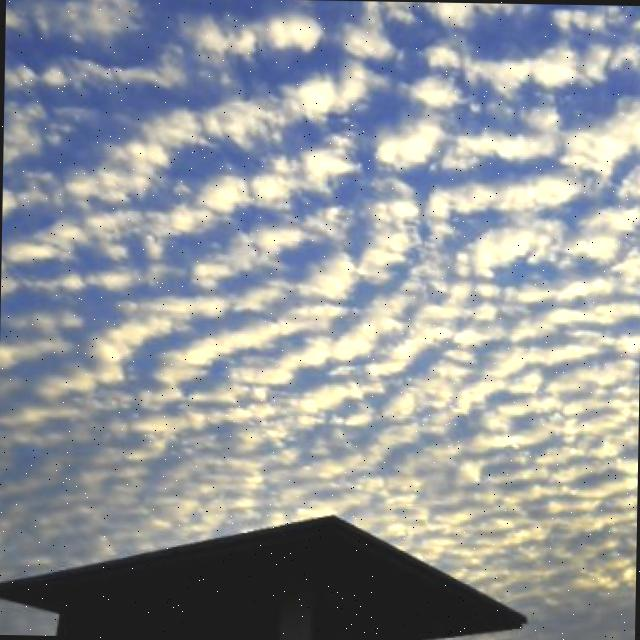Ac: (1, 37, 640, 473)
